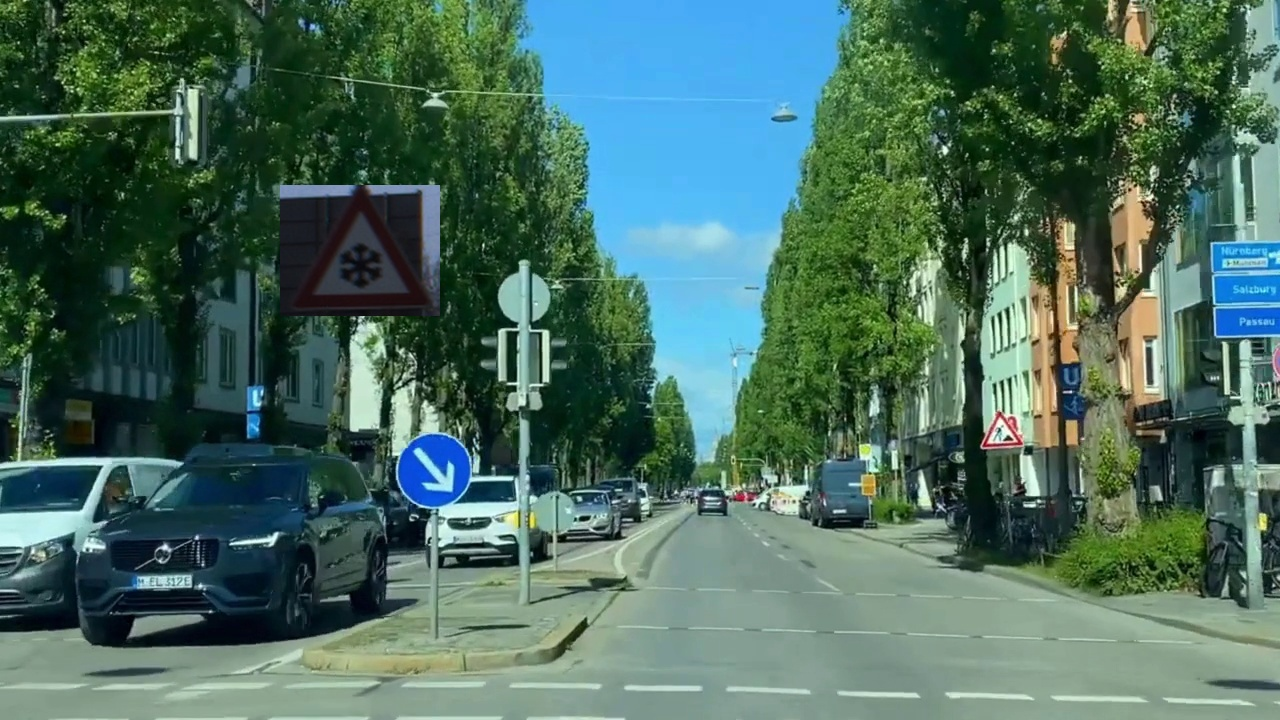Ice/snow: (280, 185, 440, 316)
